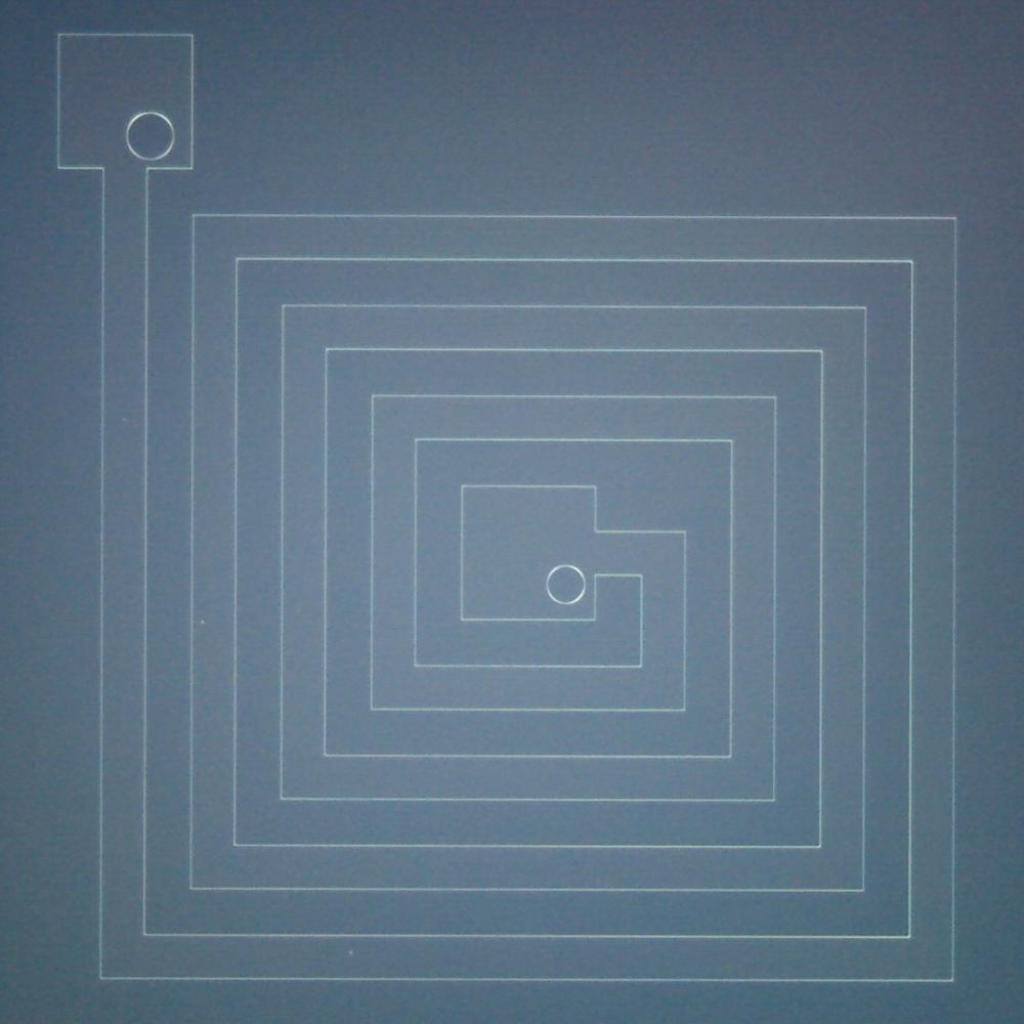dot: (348, 950, 354, 956), (200, 618, 206, 624)
